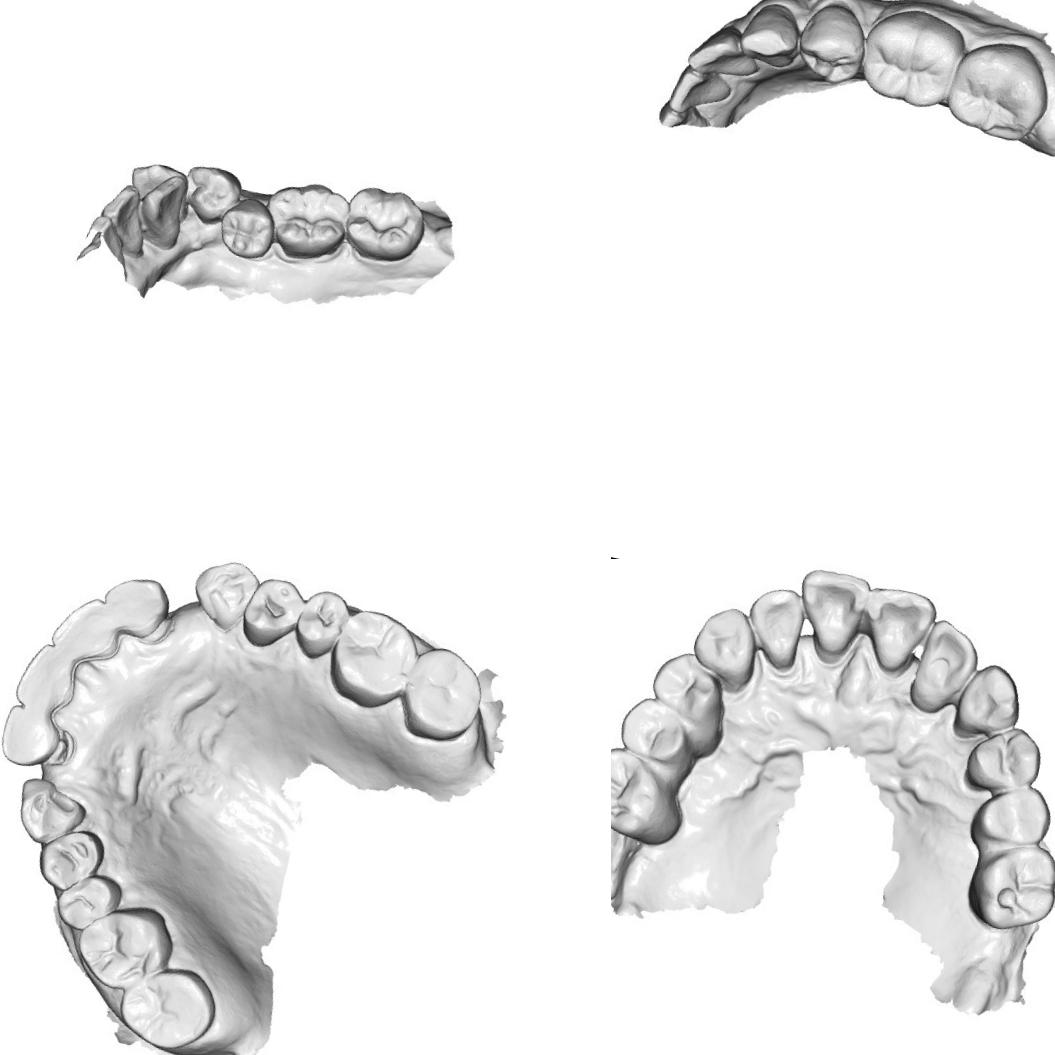canine: (685, 596, 766, 695), (947, 654, 1028, 747), (8, 773, 92, 854), (184, 559, 263, 635), (735, 0, 807, 76)
incisor: (784, 562, 877, 665), (852, 576, 944, 676), (902, 613, 985, 718), (738, 579, 814, 675), (46, 590, 129, 668), (10, 637, 88, 720), (95, 568, 176, 645), (0, 698, 70, 774), (686, 20, 761, 89), (140, 172, 198, 253), (100, 189, 159, 259), (666, 64, 741, 118)
molar: (941, 32, 1055, 149), (857, 0, 972, 114), (68, 892, 180, 1000), (320, 601, 424, 716), (111, 955, 224, 1055), (395, 640, 492, 750), (959, 831, 1055, 940), (260, 176, 355, 262), (611, 741, 681, 848), (341, 182, 428, 264)
premolar: (958, 718, 1048, 805), (645, 642, 733, 728), (614, 691, 703, 774), (967, 776, 1055, 859), (792, 0, 874, 89), (235, 570, 310, 656), (31, 820, 107, 900), (49, 866, 125, 938), (289, 584, 352, 664), (219, 195, 276, 261), (184, 162, 241, 222)
